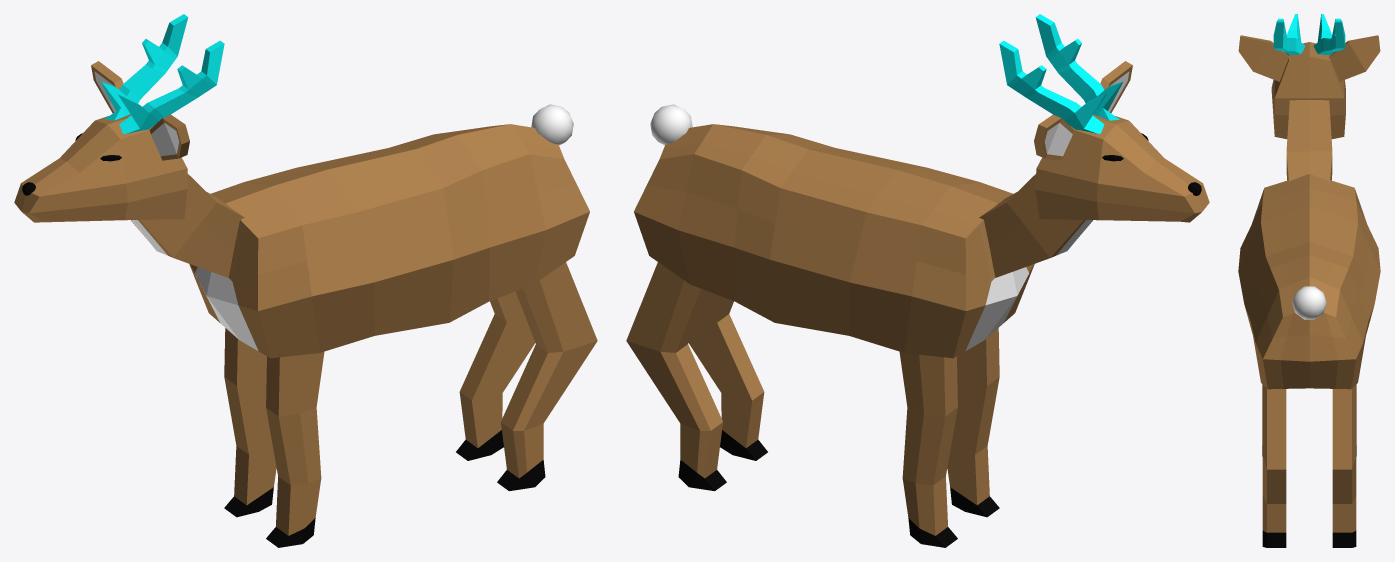
The model's file is Deer_Test.glb.
3 views of the same model, side by side, from view 1: azimuth 30°, elevation 25°; view 2: azimuth 150°, elevation 25°; view 3: azimuth 270°, elevation 25° (orthographic). The views are drawn at different scales.
Parts seen in each view (by area): view 1: Torso, Head, BackLeg_L, FrontLeg_L, FrontLeg_R, BackLeg_R, Horns, Neck, Ears, Tail; view 2: Torso, Head, BackLeg_R, FrontLeg_R, FrontLeg_L, BackLeg_L, Horns, Neck, Ears, Tail; view 3: Torso, Head, BackLeg_L, BackLeg_R, Neck, Ears, Horns, Tail.
Part boxes in pixels (x1,y1,x2,y2): Torso: (189,124,589,358); Head: (14,114,187,222); BackLeg_L: (497,262,597,491); FrontLeg_L: (266,352,324,547); FrontLeg_R: (224,328,276,517); BackLeg_R: (456,291,535,460); Horns: (101,14,224,133); Neck: (131,174,244,277); Ears: (91,61,189,160); Tail: (531,104,573,145); Torso: (634,124,1034,358); Head: (1035,114,1209,222); BackLeg_R: (626,262,726,491); FrontLeg_R: (899,352,957,547); FrontLeg_L: (947,328,999,517); BackLeg_L: (688,291,767,460); Horns: (999,14,1122,133); Neck: (979,174,1092,277); Ears: (1034,61,1132,160); Tail: (650,104,692,145); Torso: (1238,174,1380,389); Head: (1271,42,1345,139); BackLeg_L: (1262,385,1286,547); BackLeg_R: (1332,385,1356,547); Neck: (1286,99,1332,181); Ears: (1238,35,1380,81); Horns: (1273,14,1345,55); Tail: (1292,286,1326,319).
Bounding box in the file's own units: 3.47 × 3.08 × 0.9742.
